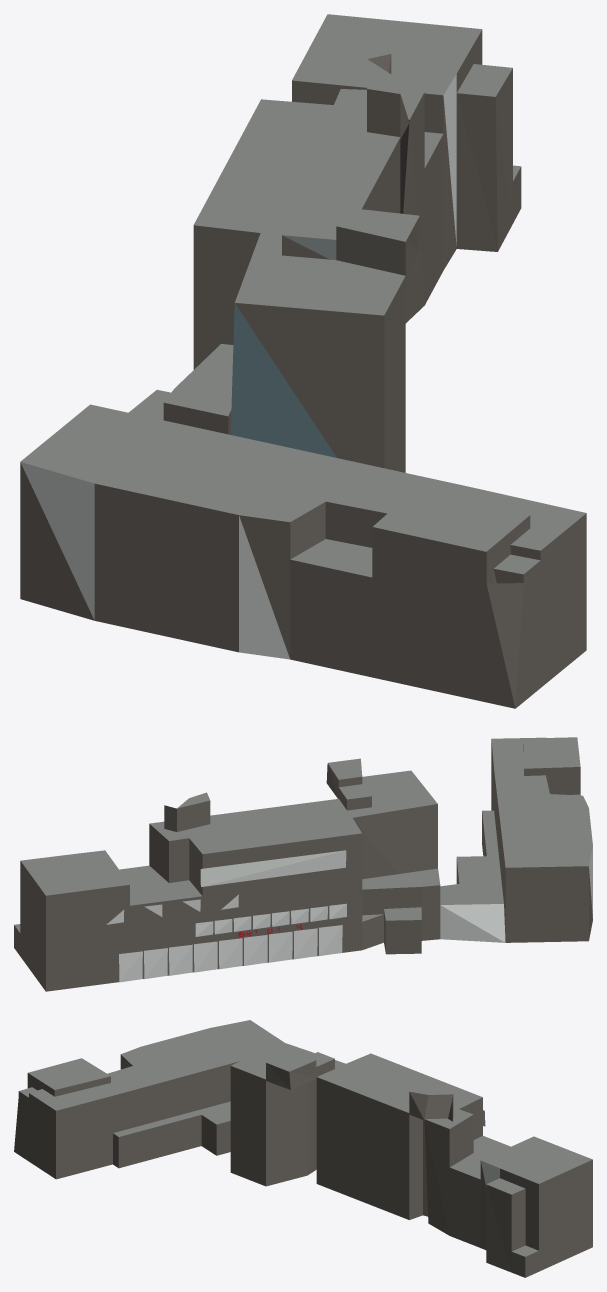
Rendered from fire-station-nico.lod2.glb.
3 views of the same model, one above another, from view 1: azimuth 30°, elevation 25°; view 2: azimuth 150°, elevation 25°; view 3: azimuth 270°, elevation 25° (orthographic). The views are drawn at different scales.
Visible parts, largest first — view 1: lod2; view 2: lod2; view 3: lod2.
Boxes of the visible parts, bbox=[...] form: lod2: bbox=[20, 14, 586, 708]; lod2: bbox=[14, 737, 592, 991]; lod2: bbox=[14, 1020, 592, 1277].
Bounding box in the file's own units: 75.91 × 24.02 × 98.1.
